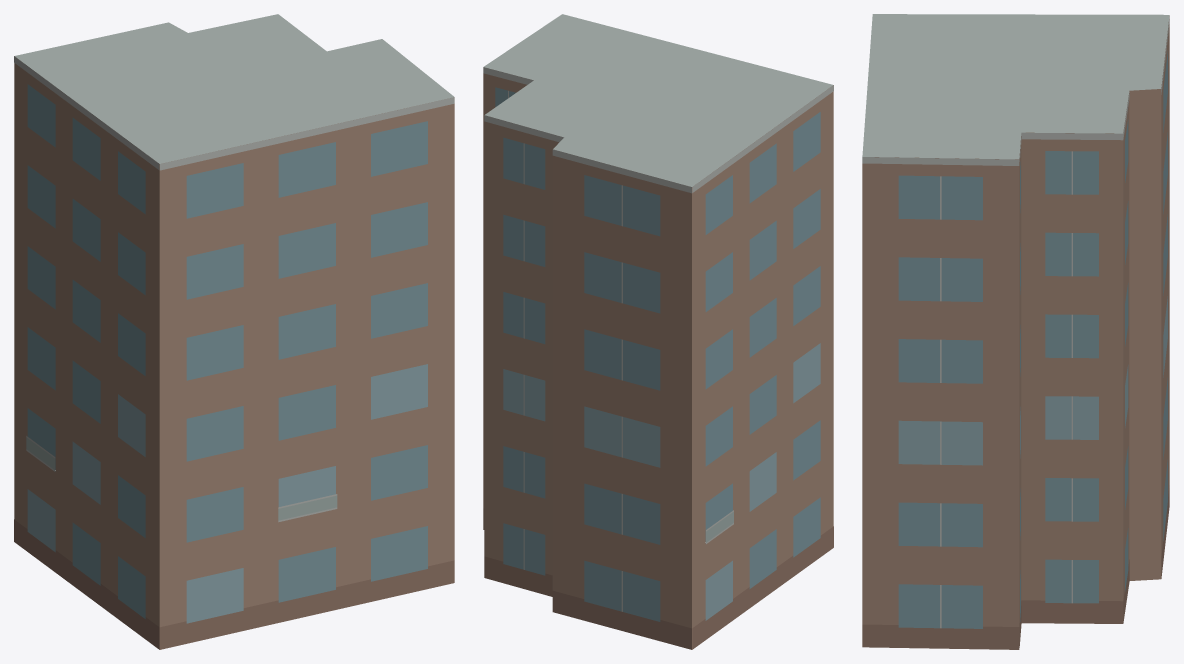
Rendered from survey-upis-32663856.glb.
3 views of the same model, side by side, from view 1: azimuth 30°, elevation 25°; view 2: azimuth 150°, elevation 25°; view 3: azimuth 270°, elevation 25° (orthographic). The views are drawn at different scales.
Parts seen in each view (by area): view 1: survey-upis-32663856.tmp; view 2: survey-upis-32663856.tmp; view 3: survey-upis-32663856.tmp.
Boxes of the visible parts, bbox=[...] form: survey-upis-32663856.tmp: bbox=[14, 14, 454, 649]; survey-upis-32663856.tmp: bbox=[483, 14, 833, 649]; survey-upis-32663856.tmp: bbox=[862, 14, 1169, 649].
Size of the model in its own units: 11.46 by 18 by 10.23.
